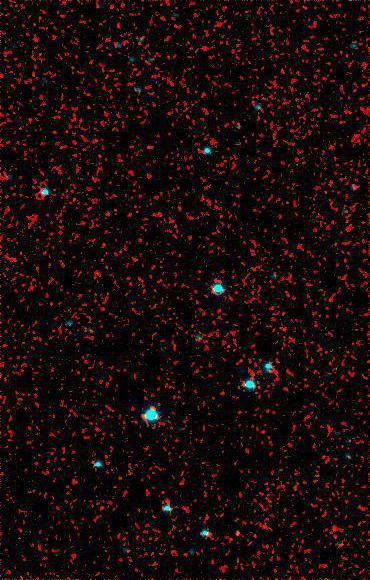star: (137, 132, 167, 162)
